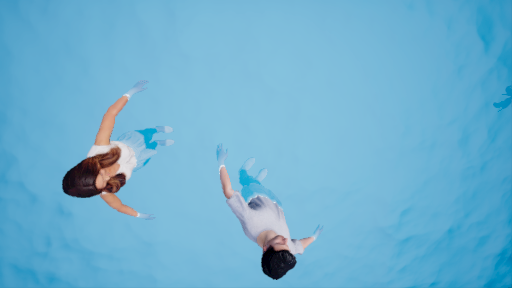person: (55, 83, 186, 223), (208, 142, 333, 276)
